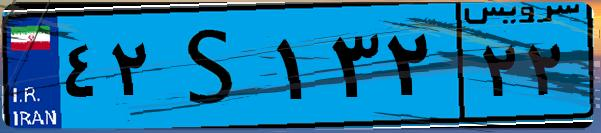1: (270, 28, 330, 110)
2: (385, 28, 445, 110), (475, 38, 525, 113), (525, 38, 570, 115), (110, 28, 158, 98)
3: (330, 28, 385, 110)
4: (57, 26, 110, 100)
S: (158, 12, 270, 120)
